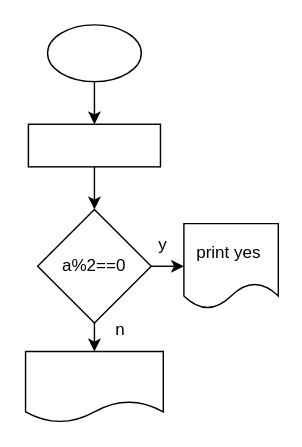
Image size: 302x447. Some labels were removed from this diagram. Each missing label, with the centre of its shape:
"a=4" goes at point 93,145.
"print no" goes at point 93,386.
